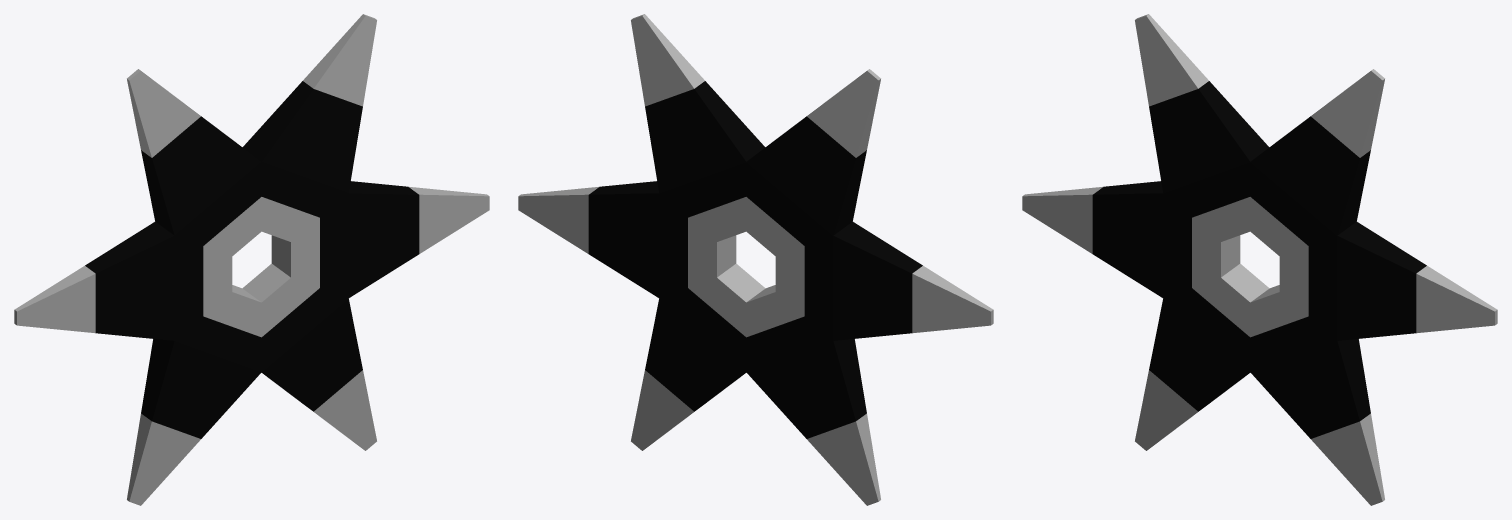
File: ninja_man_star.fbx
3 renders of one model, left to right at view 1: azimuth 30°, elevation 25°; view 2: azimuth 150°, elevation 25°; view 3: azimuth 330°, elevation 25°, orthographic.
Visible parts, largest first — view 1: star; view 2: star; view 3: star.
Part boxes in pixels (<box>): star: <box>14,14,489,505</box>; star: <box>518,14,993,505</box>; star: <box>1022,14,1497,505</box>.
Bounding box in the file's own units: 83.18 × 73.22 × 5.9.
1 material, 1 textured.
